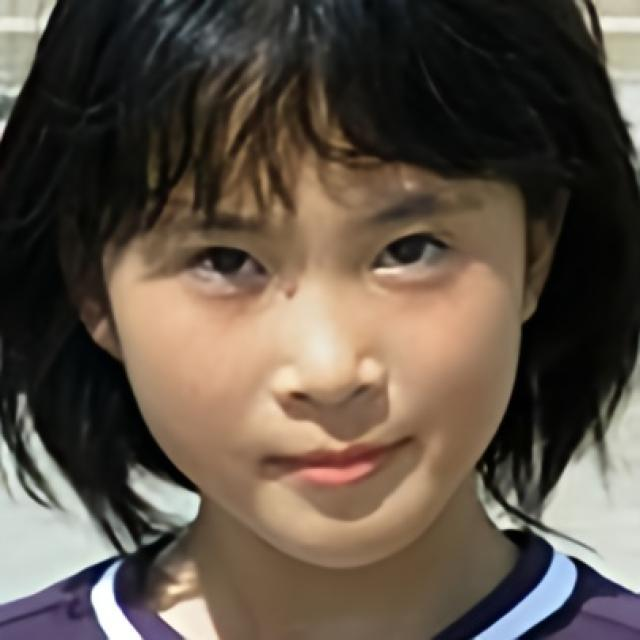content: (101, 42, 526, 564)
